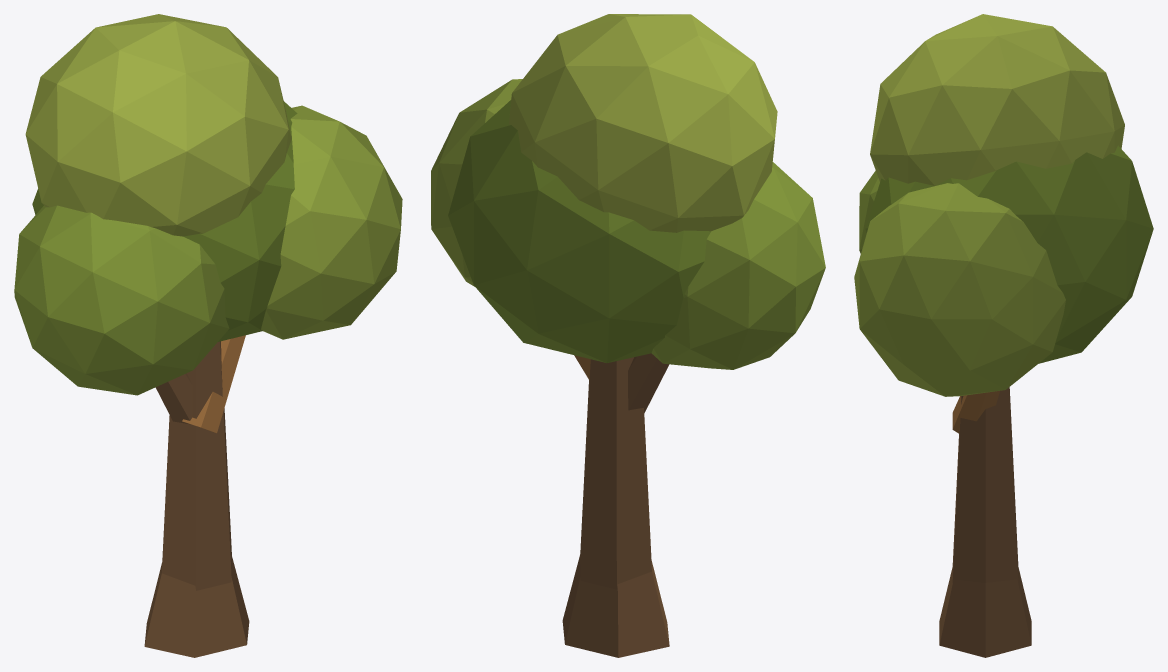
File: tree.gltf
3 renders of one model, left to right at view 1: azimuth 30°, elevation 25°; view 2: azimuth 150°, elevation 25°; view 3: azimuth 270°, elevation 25°, orthographic. The views are drawn at different scales.
Parts seen in each view (by area): view 1: tree; view 2: tree; view 3: tree.
Boxes of the visible parts, x1=… form: tree: x1=14, y1=14, x2=402, y2=657; tree: x1=431, y1=14, x2=825, y2=657; tree: x1=854, y1=14, x2=1153, y2=657.
Bounding box in the file's own units: 1.16 × 1.9 × 0.8724.
